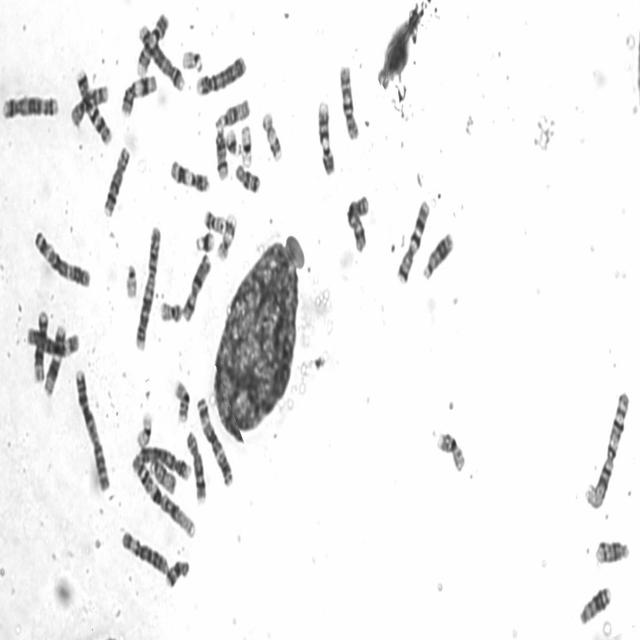A1: (132, 443, 196, 543), (583, 387, 631, 512)
A2: (72, 364, 110, 494), (134, 223, 162, 352)
A3: (31, 226, 92, 290), (196, 391, 234, 488)
B4: (131, 441, 192, 483), (194, 51, 247, 98)
B5: (137, 21, 186, 92), (0, 91, 60, 121)
C10: (337, 60, 361, 143), (69, 81, 110, 129)
C11: (119, 71, 158, 118), (168, 156, 211, 194)
C12: (42, 320, 67, 398), (31, 308, 50, 382)
C6: (119, 526, 169, 578), (25, 323, 80, 358)
C7: (394, 196, 431, 285), (74, 66, 112, 146)
C8: (102, 142, 132, 218), (184, 426, 208, 504)
C9: (135, 9, 169, 76), (315, 96, 336, 178)
D13: (420, 228, 455, 280), (578, 582, 612, 626)
D14: (593, 536, 629, 566), (213, 123, 229, 182)
D15: (148, 452, 178, 496), (214, 95, 252, 129)
E16: (434, 425, 467, 474), (172, 376, 192, 425)
E17: (261, 108, 284, 163), (215, 210, 237, 262)
E18: (233, 160, 261, 194), (164, 555, 190, 590)
F19: (135, 408, 154, 448), (239, 123, 253, 167)
F20: (159, 297, 183, 324), (203, 206, 225, 235)
G21: (193, 228, 216, 254), (224, 126, 242, 156)
G22: (180, 46, 204, 74), (125, 259, 138, 299)
X: (180, 250, 212, 323), (343, 192, 371, 255)
